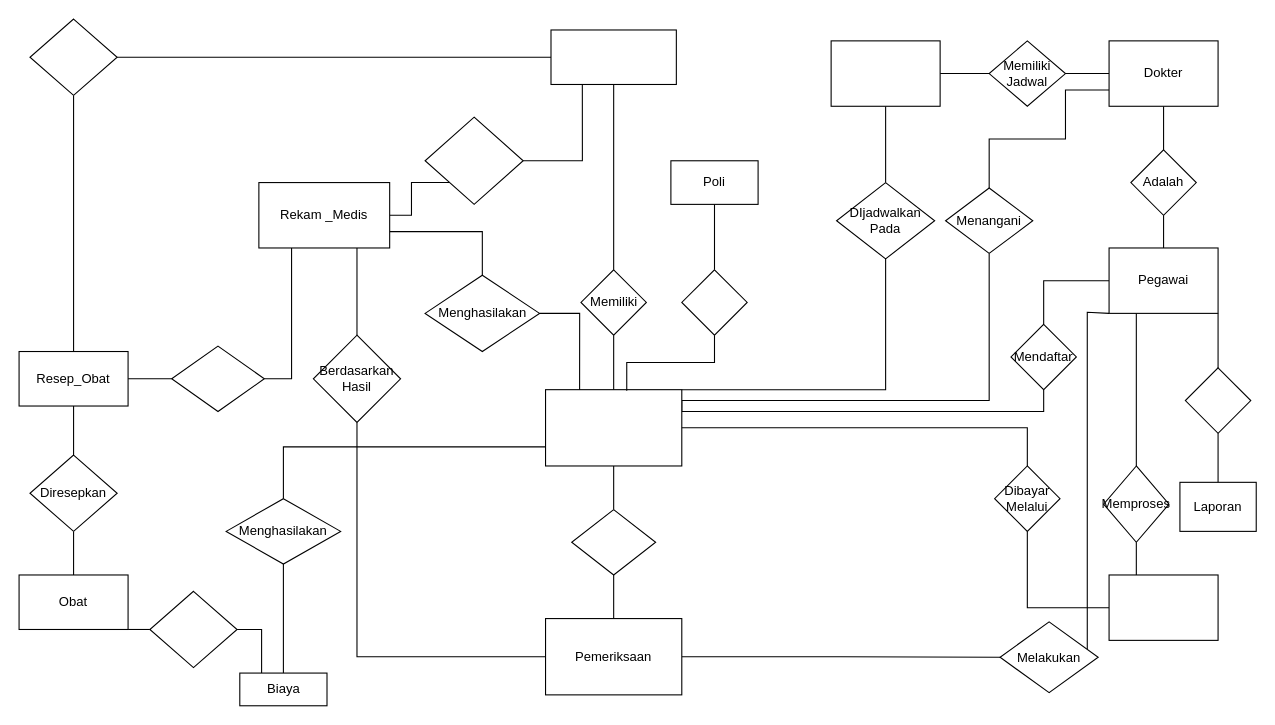
Some shapes in this 1275 by 725 pixel diagram are drawn without their labels. Each missing label, with the centre of its shape:
"Jadwal Praktek" belongs at (x=885, y=73).
"Kontribusi" belongs at (x=193, y=629).
"Kunjungan" belongs at (x=613, y=427).
"Melibatkan" belongs at (x=613, y=541).
"Membuat" belongs at (x=1217, y=400).
"Memiliki Riawayat" belongs at (x=473, y=160).
"Menerima Resep" belongs at (x=73, y=56).
"Meresepkan" belongs at (x=217, y=378).
"Pasien" belongs at (x=613, y=56).
"Pembayaran" belongs at (x=1163, y=607).
"Terdaftar" belongs at (x=714, y=302).
